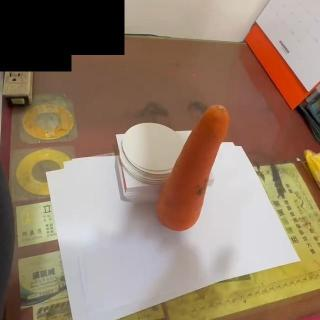carrot: (157, 106, 230, 232)
